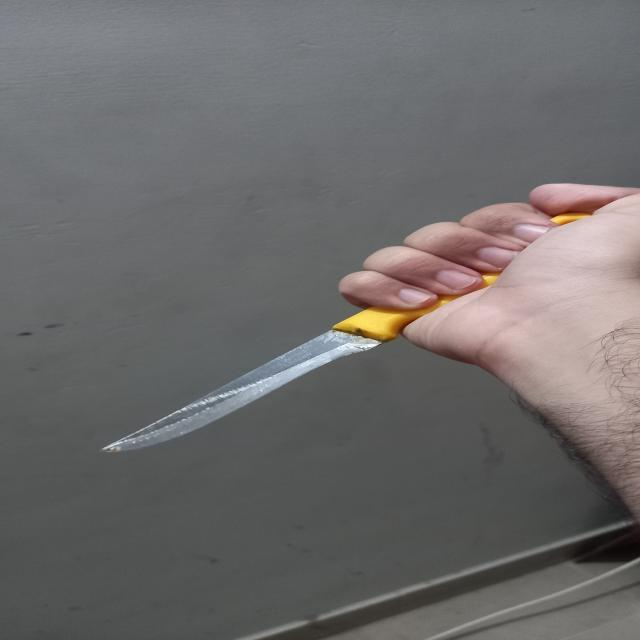Knife: (99, 202, 592, 454)
